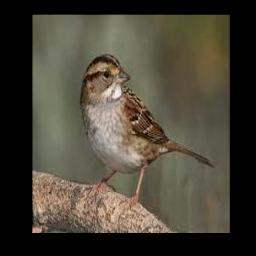Sparrow: (80, 55, 216, 210)
